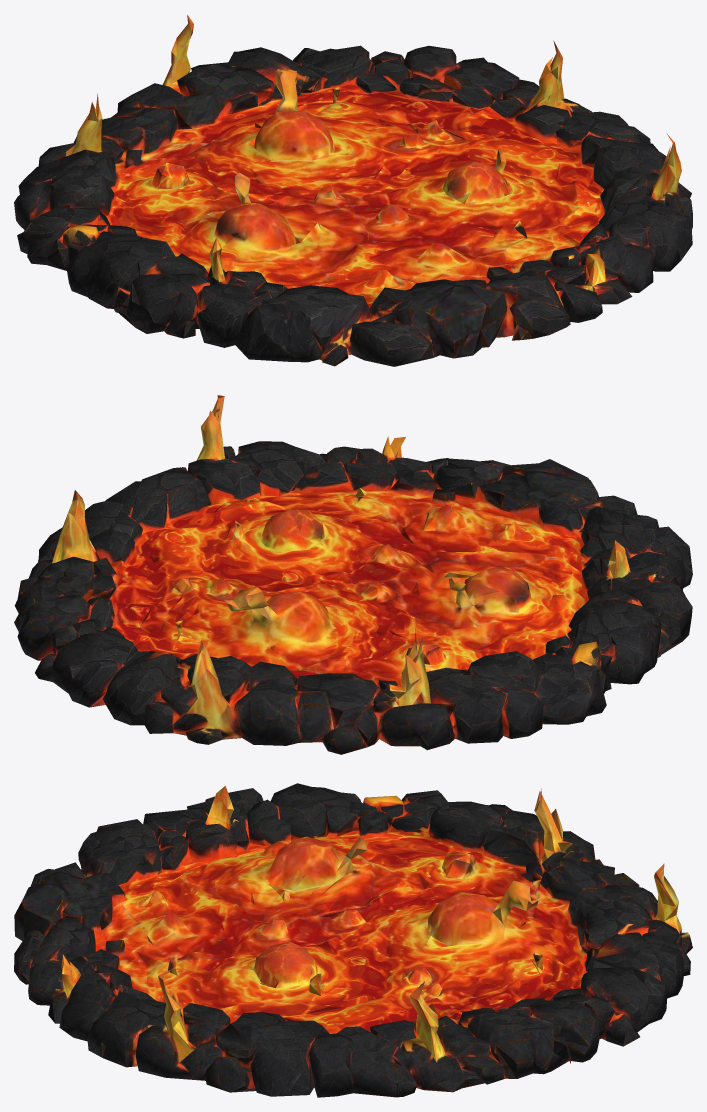
The model's file is fam-imp-lavapool.glb.
The picture shows the model from 3 angles, top to bottom: view 1: azimuth 30°, elevation 25°; view 2: azimuth 150°, elevation 25°; view 3: azimuth 270°, elevation 25°; orthographic projection.
Bounding box in the file's own units: 1.96 × 0.3228 × 2.
Materials: 1 (1 with a texture image).
